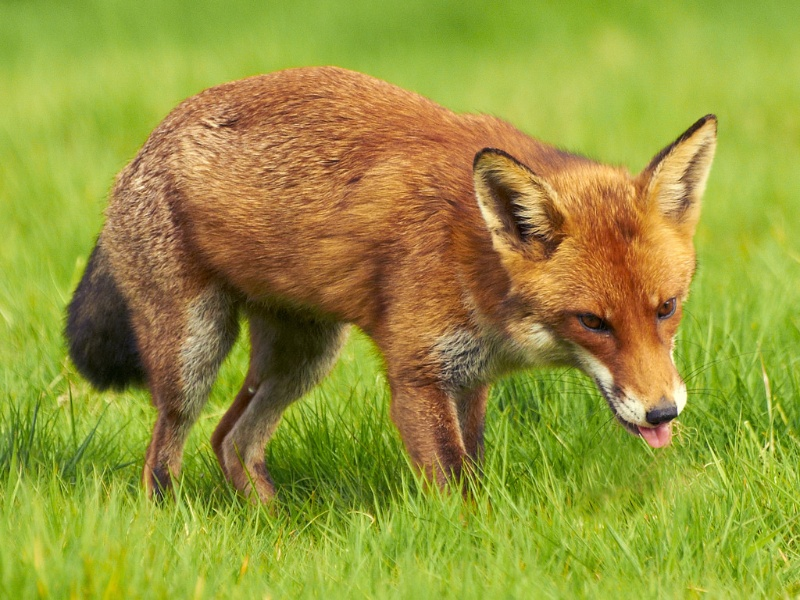fox: (64, 59, 727, 515)
